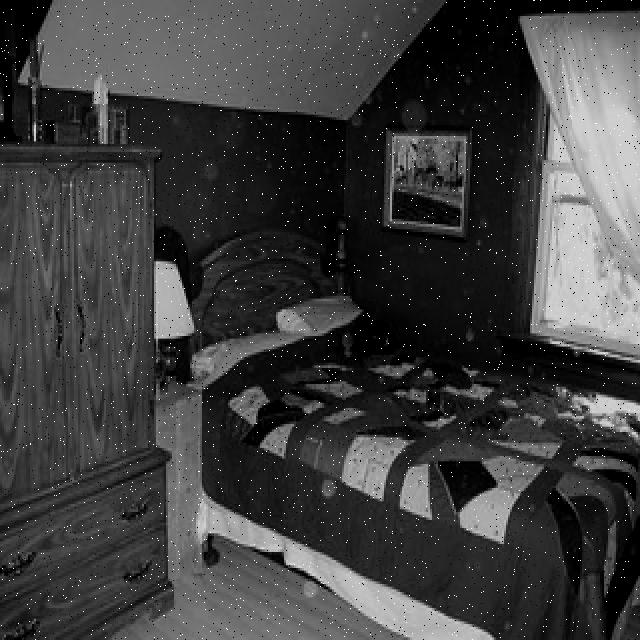bed: (194, 234, 640, 640)
